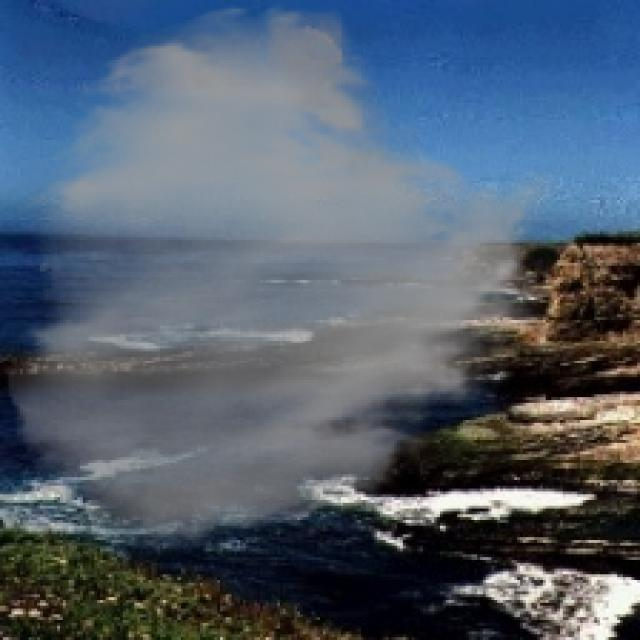Smoke: (3, 0, 561, 555)
